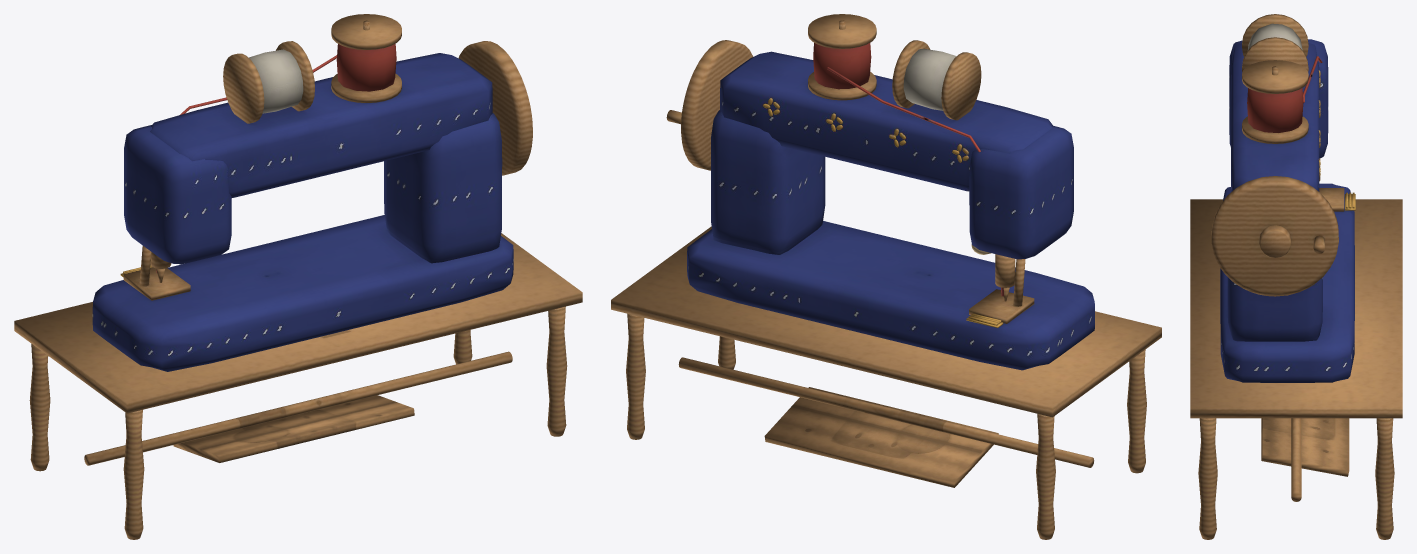
The model's file is craft_machine.glb.
The picture shows the model from 3 angles, left to right: view 1: azimuth 30°, elevation 25°; view 2: azimuth 150°, elevation 25°; view 3: azimuth 270°, elevation 25°; orthographic projection. The views are drawn at different scales.
Parts seen in each view (by area): view 1: prop_craft_machine_felt, prop_mv_table_wood, prop_mv_pedal_wood, prop_mv_balance_wood, prop_mv_spool_cream_wood, prop_mv_spool_red_wood, prop_mv_spool_red_felt, prop_mv_spool_cream_felt, prop_mv_presser_wood; view 2: prop_craft_machine_felt, prop_mv_table_wood, prop_mv_pedal_wood, prop_mv_balance_wood, prop_mv_spool_cream_wood, prop_mv_spool_red_wood, prop_mv_spool_cream_felt, prop_mv_spool_red_felt, prop_mv_presser_wood, prop_mv_needle_wood; view 3: prop_mv_table_wood, prop_craft_machine_felt, prop_mv_balance_wood, prop_mv_pedal_wood, prop_mv_spool_red_wood, prop_mv_spool_cream_wood, prop_mv_spool_red_felt, prop_mv_spool_cream_felt, prop_mv_presser_wood.
Boxes of the visible parts, x1=… form: prop_craft_machine_felt: x1=92, y1=53, x2=513, y2=371; prop_mv_table_wood: x1=14, y1=233, x2=582, y2=539; prop_mv_pedal_wood: x1=173, y1=395, x2=414, y2=462; prop_mv_balance_wood: x1=458, y1=41, x2=532, y2=175; prop_mv_spool_cream_wood: x1=223, y1=41, x2=314, y2=123; prop_mv_spool_red_wood: x1=331, y1=14, x2=401, y2=102; prop_mv_spool_red_felt: x1=336, y1=43, x2=396, y2=91; prop_mv_spool_cream_felt: x1=249, y1=49, x2=303, y2=113; prop_mv_presser_wood: x1=123, y1=246, x2=190, y2=300; prop_craft_machine_felt: x1=687, y1=51, x2=1094, y2=370; prop_mv_table_wood: x1=611, y1=226, x2=1161, y2=539; prop_mv_pedal_wood: x1=764, y1=387, x2=998, y2=487; prop_mv_balance_wood: x1=666, y1=40, x2=753, y2=170; prop_mv_spool_cream_wood: x1=892, y1=40, x2=981, y2=120; prop_mv_spool_red_wood: x1=808, y1=14, x2=876, y2=100; prop_mv_spool_cream_felt: x1=903, y1=48, x2=956, y2=110; prop_mv_spool_red_felt: x1=813, y1=43, x2=871, y2=89; prop_mv_presser_wood: x1=969, y1=259, x2=1034, y2=323; prop_mv_needle_wood: x1=995, y1=254, x2=1015, y2=301; prop_mv_table_wood: x1=1190, y1=199, x2=1402, y2=539; prop_craft_machine_felt: x1=1220, y1=39, x2=1354, y2=382; prop_mv_balance_wood: x1=1211, y1=176, x2=1338, y2=296; prop_mv_pedal_wood: x1=1261, y1=418, x2=1349, y2=476; prop_mv_spool_red_wood: x1=1242, y1=60, x2=1308, y2=143; prop_mv_spool_cream_wood: x1=1242, y1=14, x2=1308, y2=72; prop_mv_spool_red_felt: x1=1247, y1=88, x2=1303, y2=132; prop_mv_spool_cream_felt: x1=1248, y1=23, x2=1302, y2=50; prop_mv_presser_wood: x1=1319, y1=188, x2=1344, y2=211.
Size of the model in its own units: 4.2 by 3.73 by 1.8.
14 materials, 14 textured.
